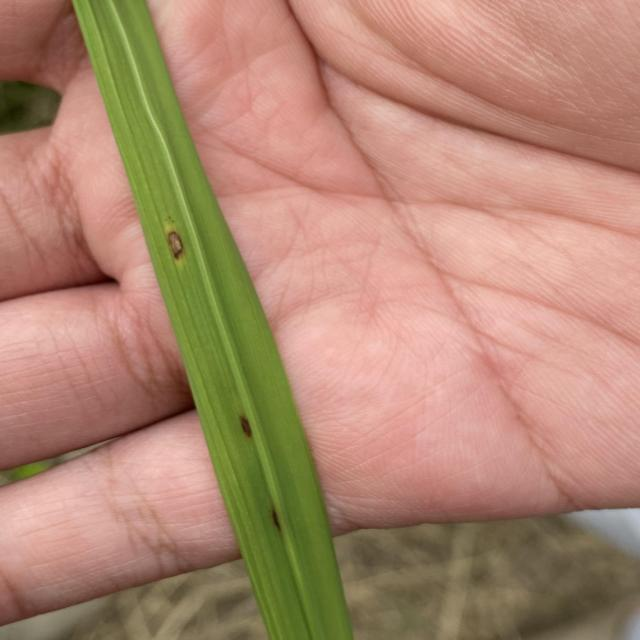Dom nau: (165, 229, 187, 262), (237, 413, 258, 440), (269, 504, 282, 535)
